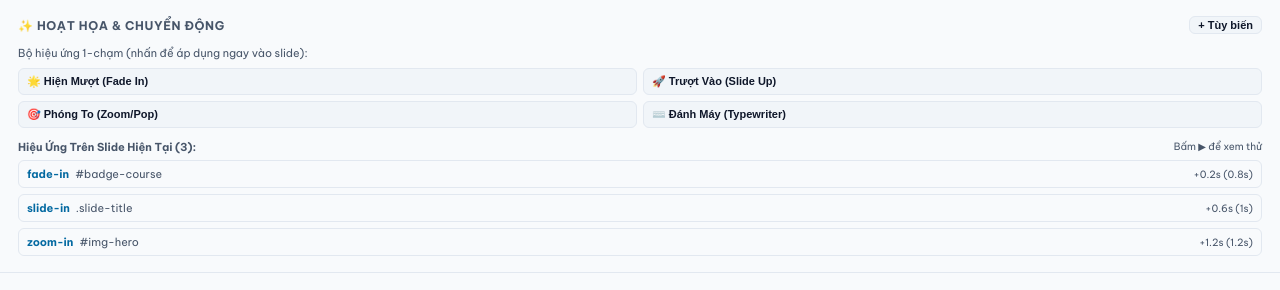
Scenario: Phase F5: Properties Panel Unit Tests › AnimationList › applies quick animation presets via SET_ANIMATION
Click the button with class "btn-quick-anim" showing "🚀 Trượt Vào (Slide Up)" at point(714, 81), box [643, 68, 1262, 95]
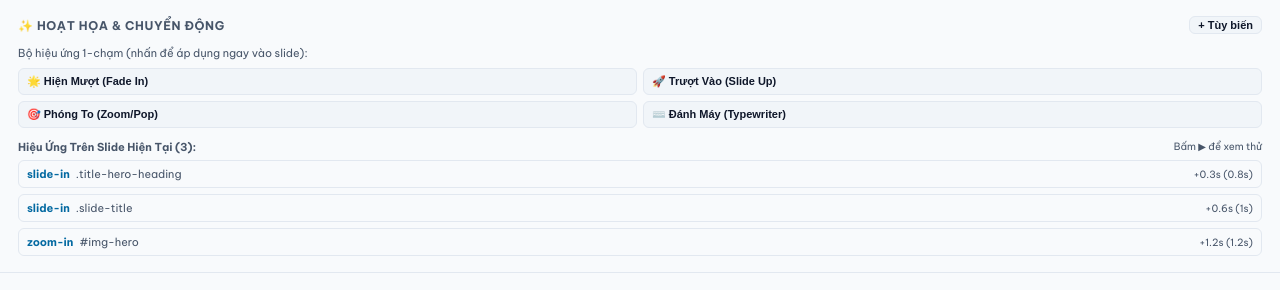
Result: the text "slide-in" next to ".title-hero-heading" is shown at [27, 167, 70, 181]
